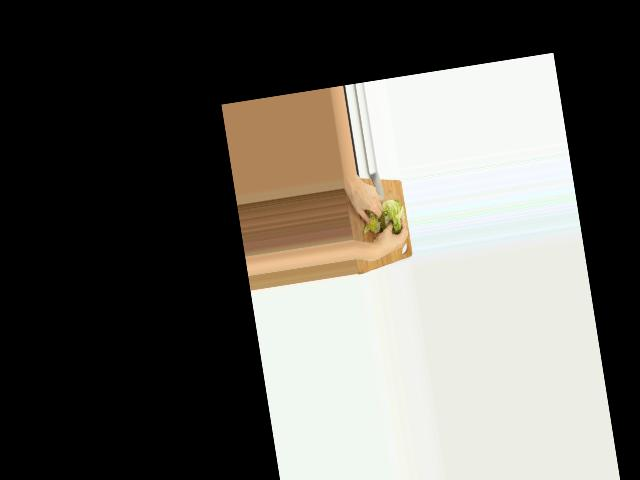lettuce: (378, 197, 406, 234)
